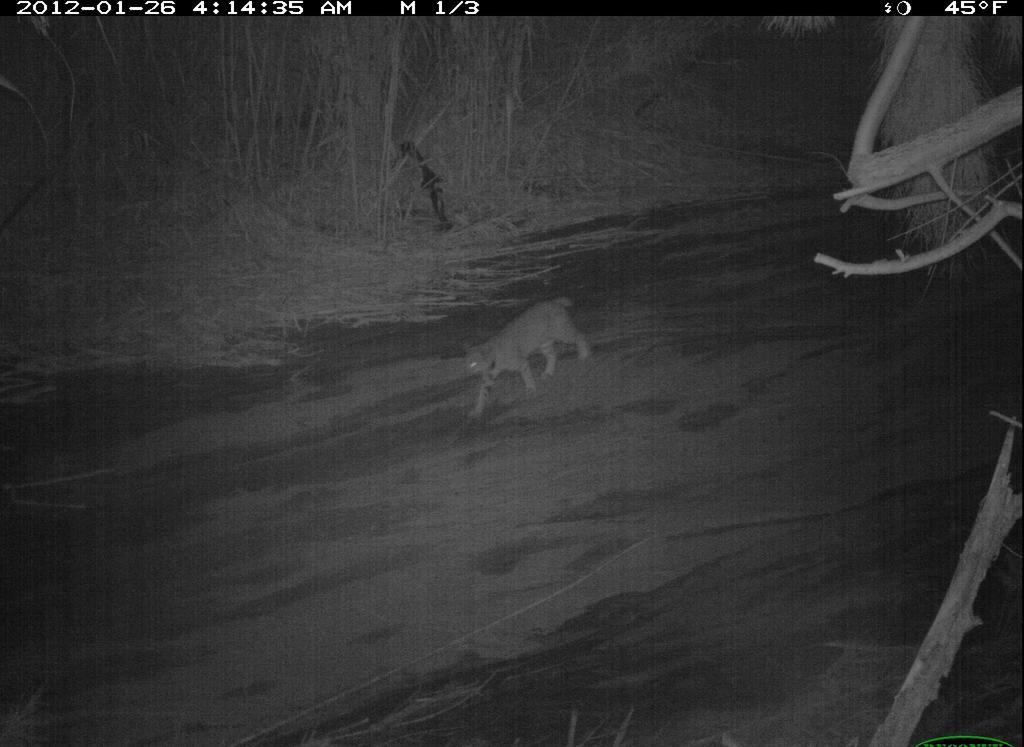bobcat: (443, 270, 610, 435)
